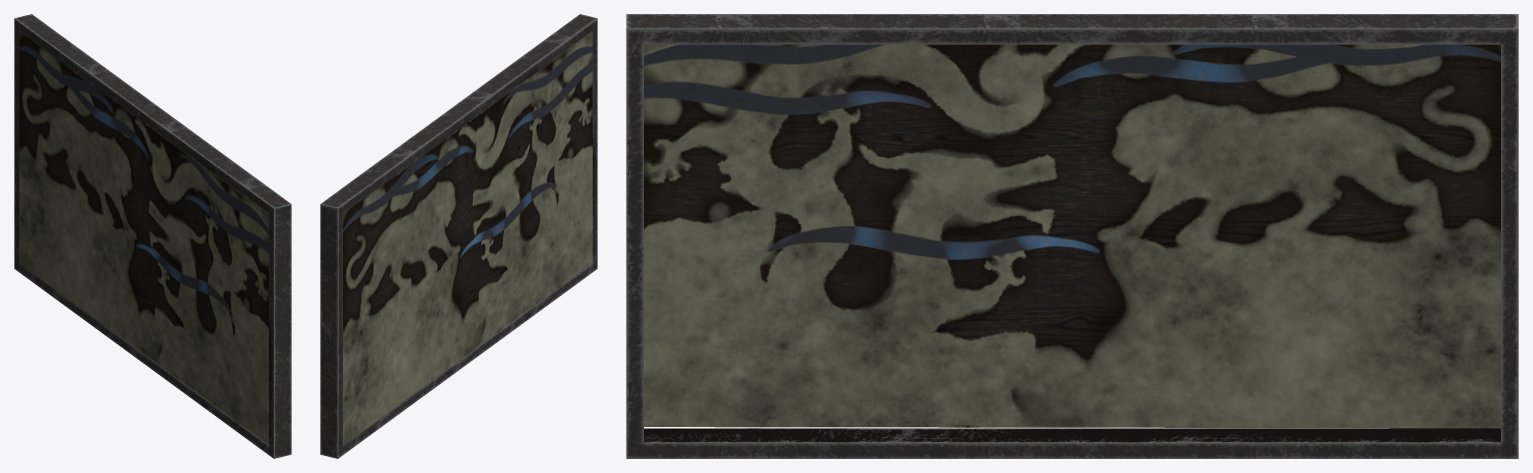
File: SM_CarvedWall.fbx
3 renders of one model, left to right at view 1: azimuth 30°, elevation 25°; view 2: azimuth 150°, elevation 25°; view 3: azimuth 270°, elevation 25°, orthographic. The views are drawn at different scales.
Parts seen in each view (by area): view 1: SM_CarvedWall_LOD0; view 2: SM_CarvedWall_LOD0; view 3: SM_CarvedWall_LOD0.
Part boxes in pixels (left/top/right/bottom): SM_CarvedWall_LOD0: left=14, top=14, right=291, bottom=458; SM_CarvedWall_LOD0: left=320, top=14, right=597, bottom=458; SM_CarvedWall_LOD0: left=626, top=14, right=1518, bottom=458.
Bounding box in the file's own units: 21.59 × 549 × 292.
